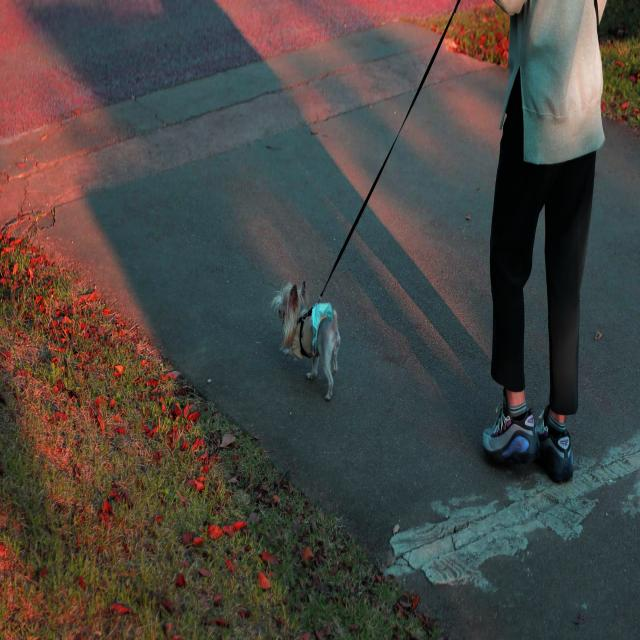Leashed_Dog: (270, 0, 547, 401)
